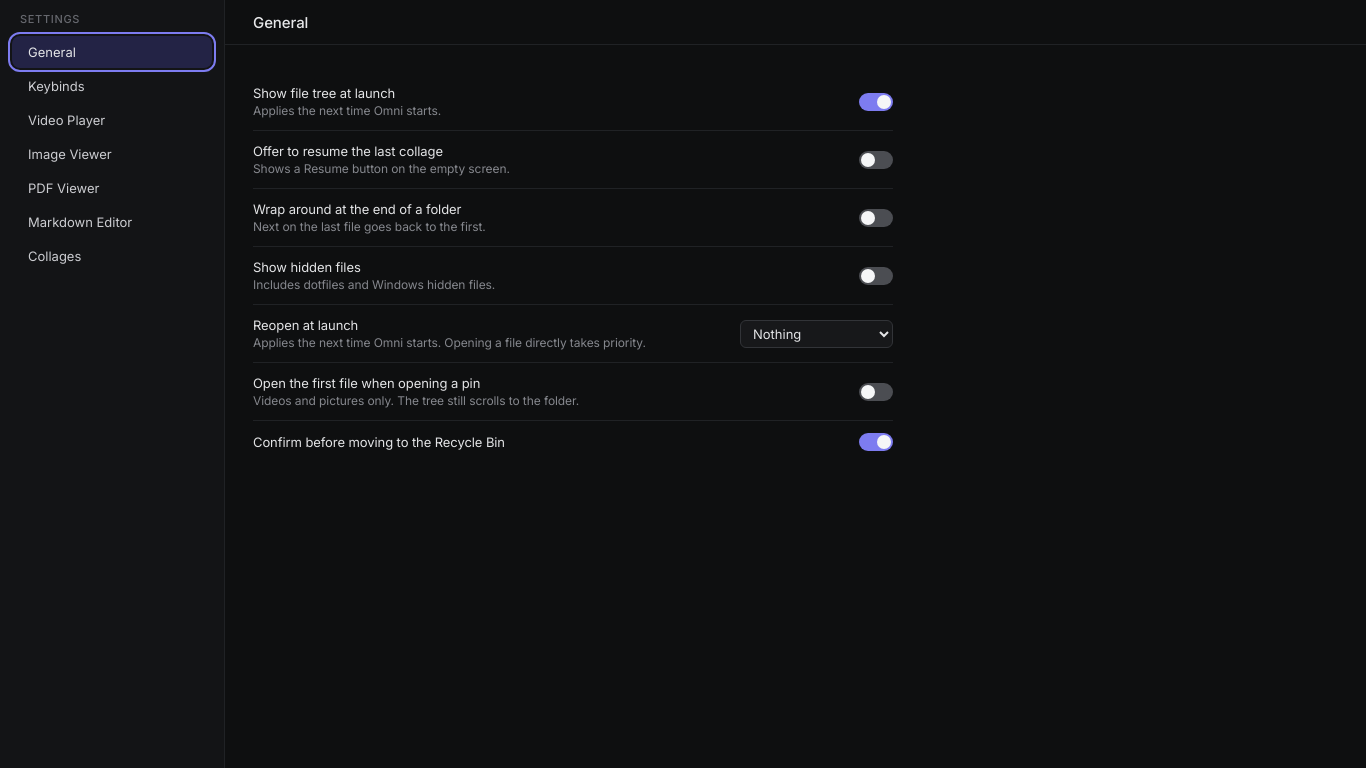
Test: SettingsModal › placeholder sections say so without repeating the title
What coordinates should you click on to do the following:
click the button with class "nav-item" showing "PDF Viewer"
I would click on:
 (112, 188)
Its box is [12,172,212,204].
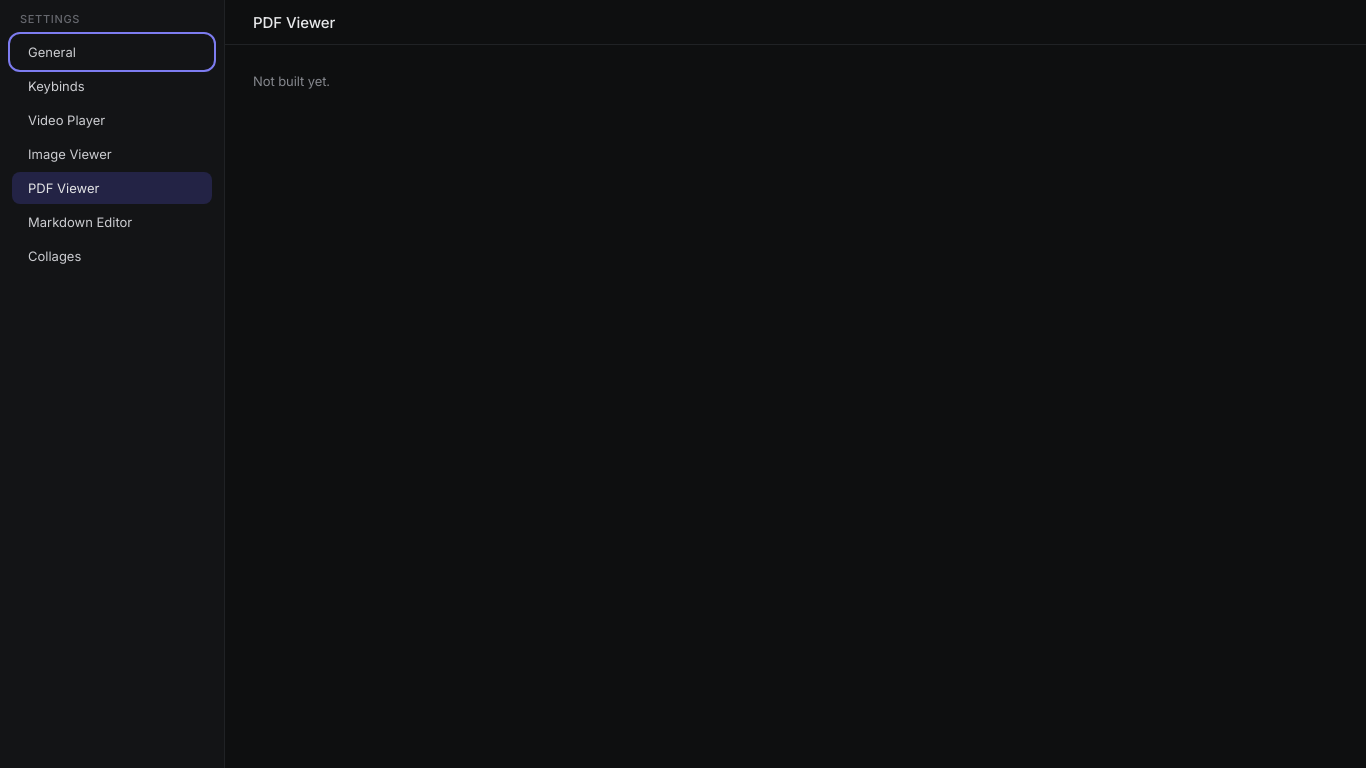
Expected: the element showing "Not built yet." is shown, [253,73,330,89]
